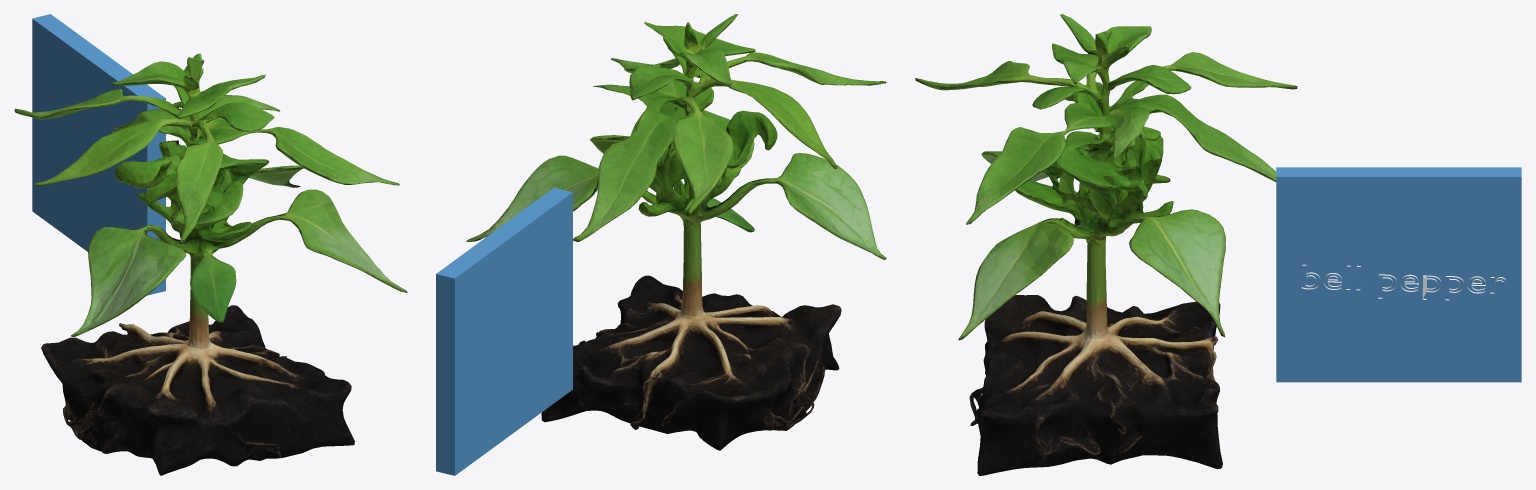
Rendered from plant.glb.
3 views of the same model, side by side, from view 1: azimuth 30°, elevation 25°; view 2: azimuth 150°, elevation 25°; view 3: azimuth 270°, elevation 25° (orthographic). The views are drawn at different scales.
Visible parts, largest first — view 1: world, Plane; view 2: world, Plane; view 3: world, Plane, Text.
Boxes of the visible parts, left/top/right/bottom form: world: left=14, top=53, right=407, bottom=475; Plane: left=32, top=14, right=165, bottom=295; world: left=466, top=14, right=886, bottom=450; Plane: left=436, top=187, right=572, bottom=475; world: left=915, top=14, right=1297, bottom=475; Plane: left=1276, top=167, right=1521, bottom=382; Text: left=1301, top=264, right=1505, bottom=300.
Bounding box in the file's own units: 1.27 × 1.43 × 1.95.
Materials: 3 (1 with a texture image).
